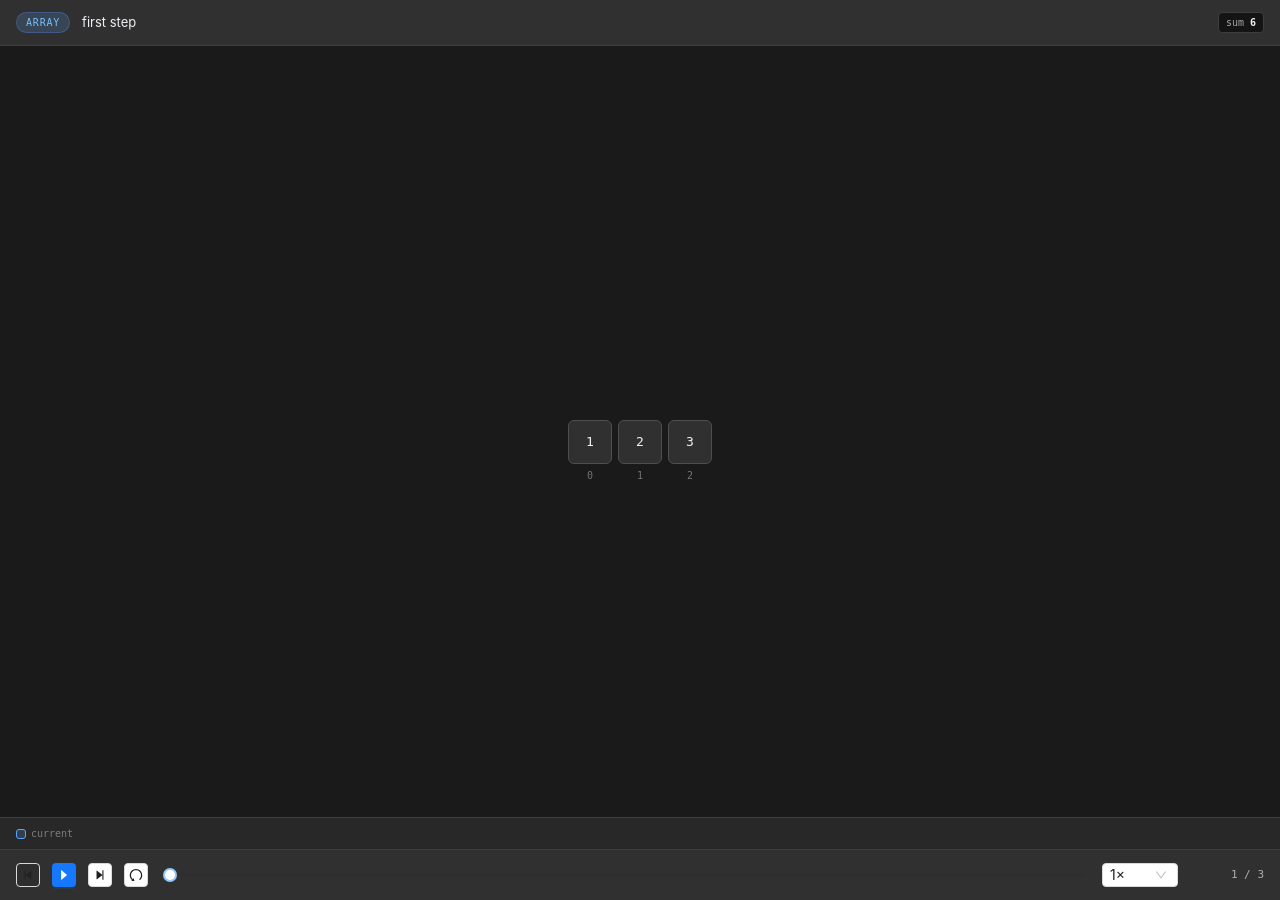
Test: VisualizerPanel › disables the back button on the first frame and forward on the last
Expected: the button named "Previous step" is disabled, [16, 863, 40, 887]
Click the button named "Next step".
click(100, 875)  # box [88, 863, 112, 887]
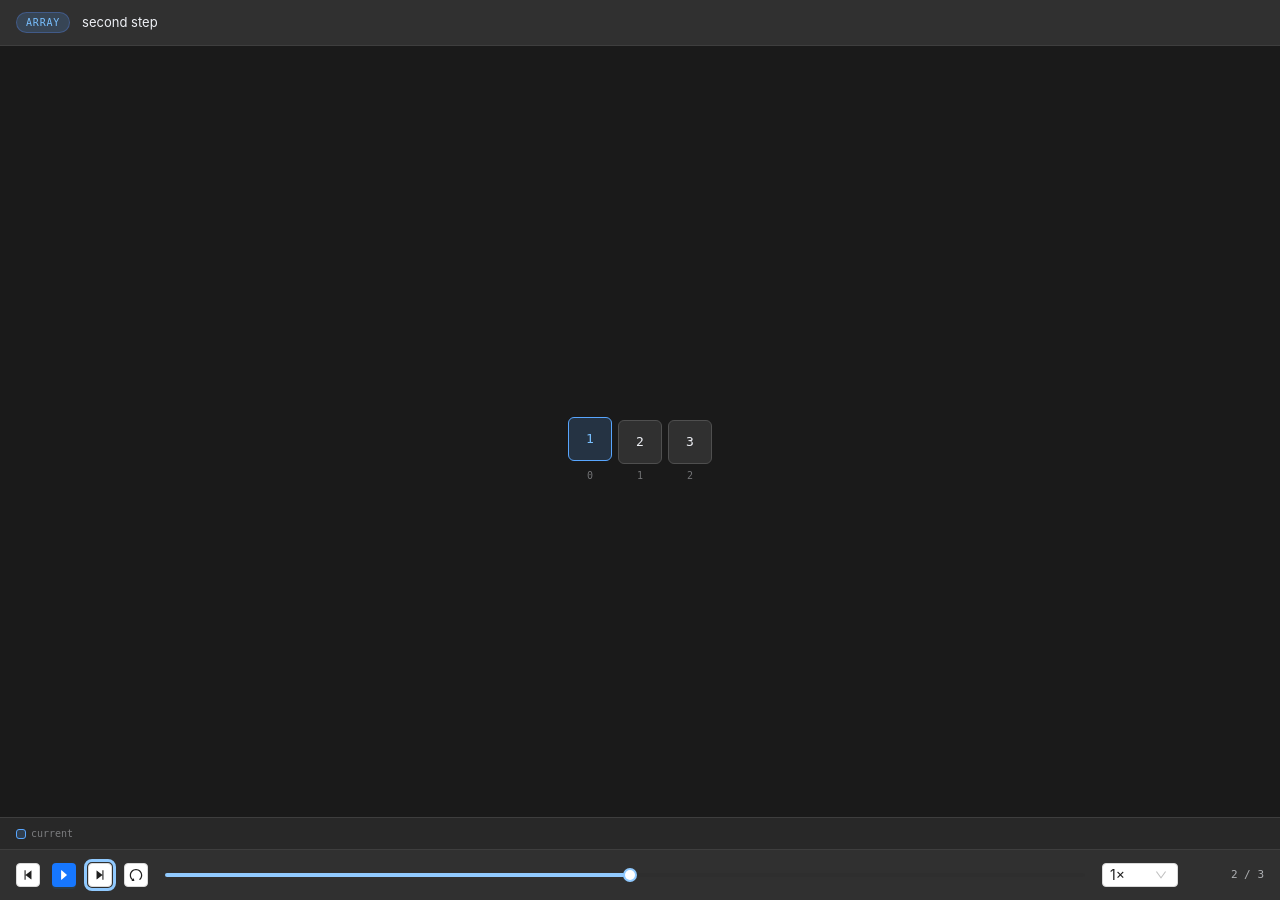
Click the button named "Next step".
click(100, 875)  # box [88, 863, 112, 887]
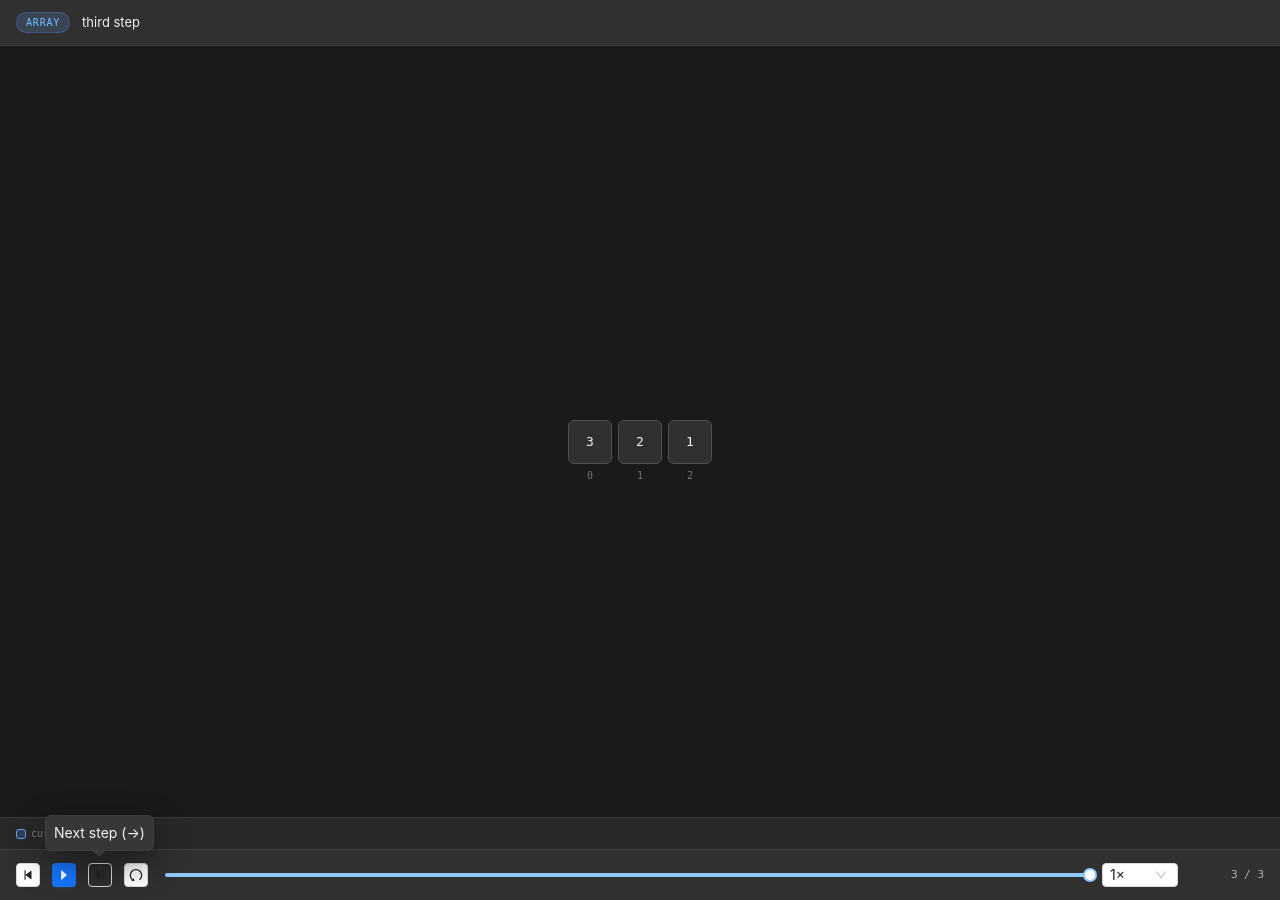
Expected: the button named "Next step" is disabled, [88, 863, 112, 887]
